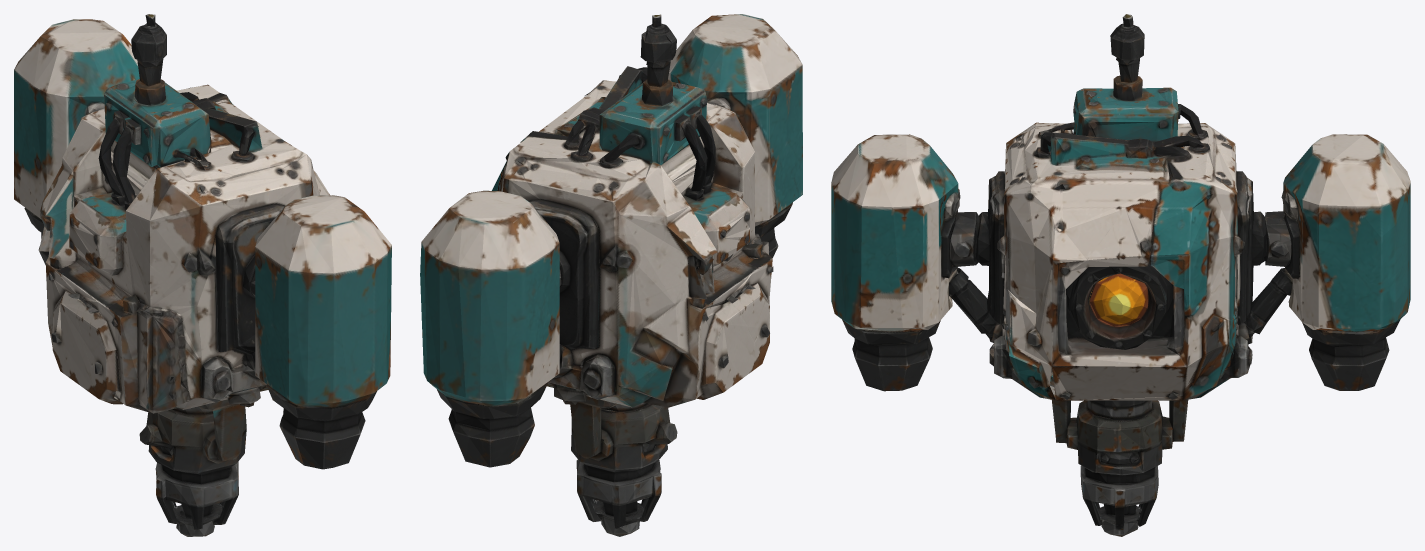
Rendered from SM_Drone_assembled.fbx.
3 views of the same model, side by side, from view 1: azimuth 30°, elevation 25°; view 2: azimuth 150°, elevation 25°; view 3: azimuth 270°, elevation 25° (orthographic). The views are drawn at different scales.
Visible parts, largest first — view 1: SM_DroneBase, SM_DroneLaser; view 2: SM_DroneBase, SM_DroneLaser; view 3: SM_DroneBase, SM_DroneLaser.
Boxes of the visible parts, x1,y1,x2,y2 form: SM_DroneBase: [14, 14, 391, 469]; SM_DroneLaser: [139, 406, 246, 536]; SM_DroneBase: [420, 14, 802, 467]; SM_DroneLaser: [570, 402, 677, 536]; SM_DroneBase: [831, 14, 1410, 402]; SM_DroneLaser: [1050, 381, 1188, 536].
Bounding box in the file's own units: 29.66 × 66.42 × 70.
Materials: 1 (1 with a texture image).
